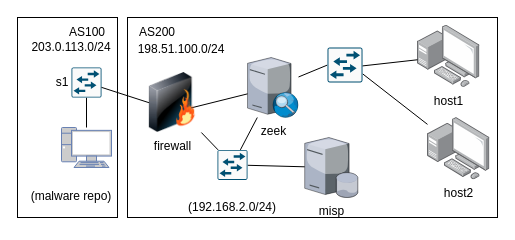
Image size: 515x240. Some labels were removed from this diagram. The centre of each missing label's shape, as x and y in pixels:
"outside1" belongs at point 86,147.
"s2" belongs at point 344,64.
"s3mgmt" belongs at point 232,164.
